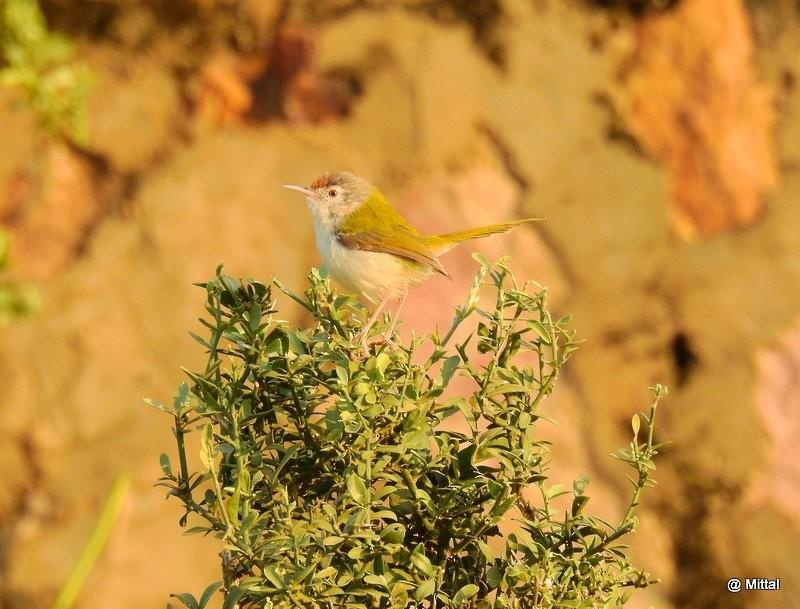tailorbird: (279, 115, 524, 331)
